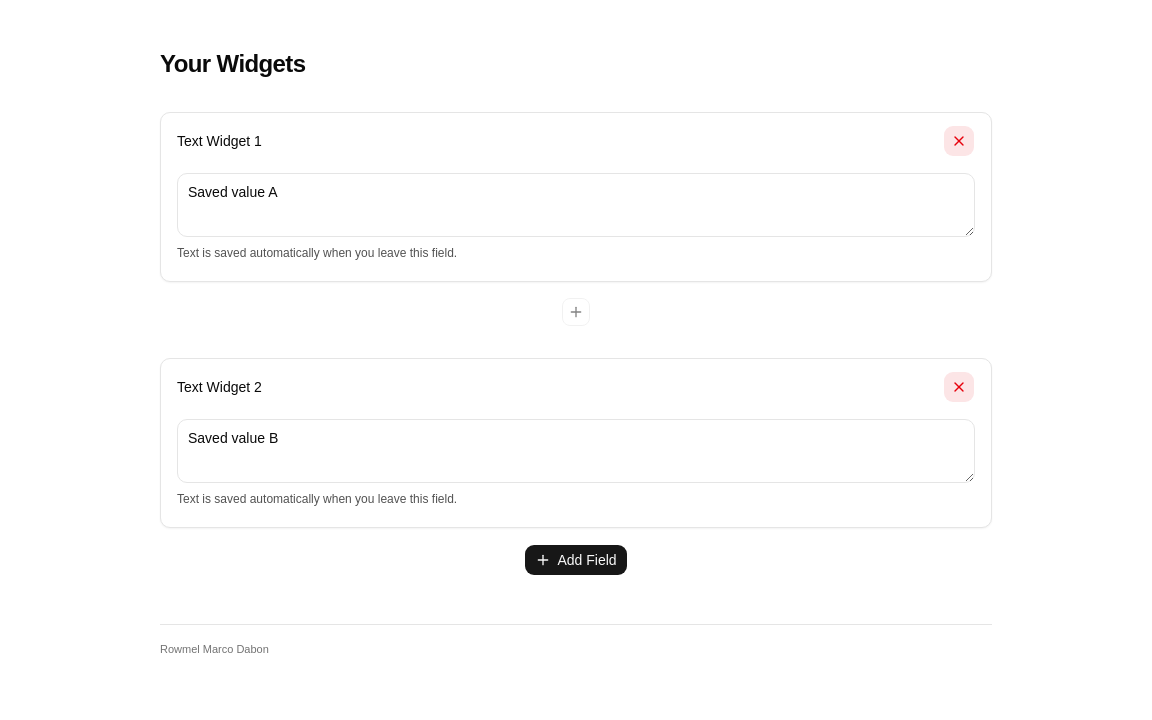
Test: widgets › shows a save error and preserves unsaved input so the user can retry
Clear the text box named "Text Widget 1" at point(576, 205), box [177,173,975,237]
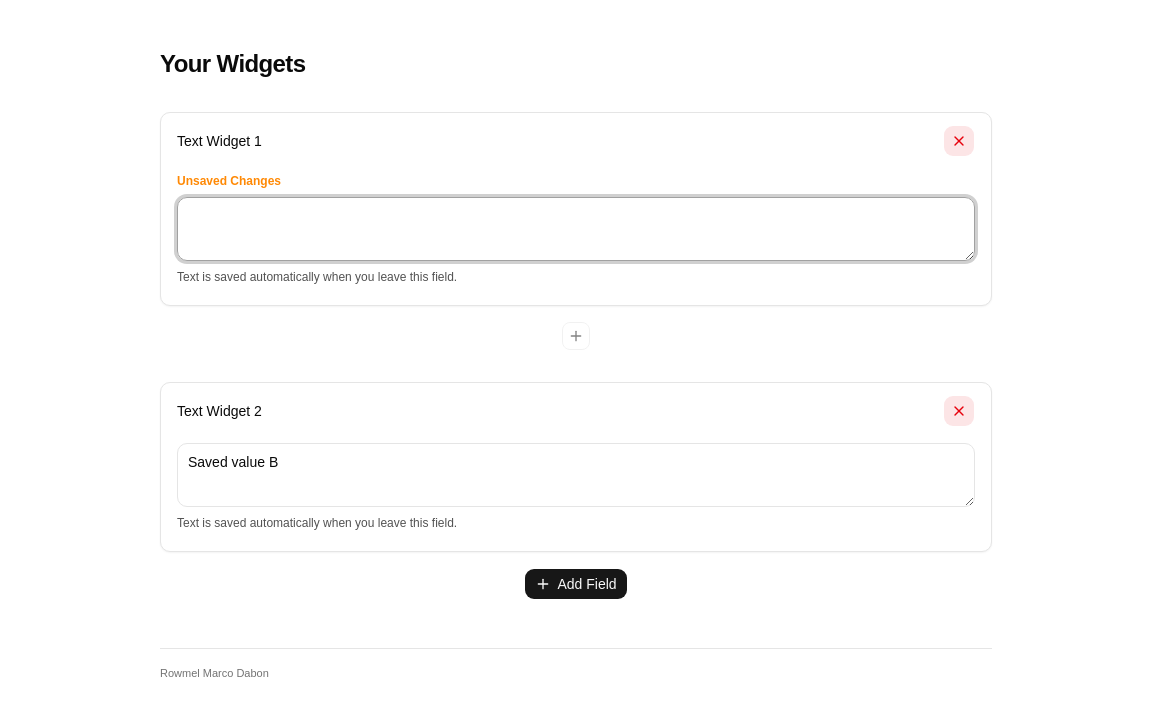
Type "Unsaved draft" into the text box named "Text Widget 1" at point(576, 229), box [177,197,975,261]
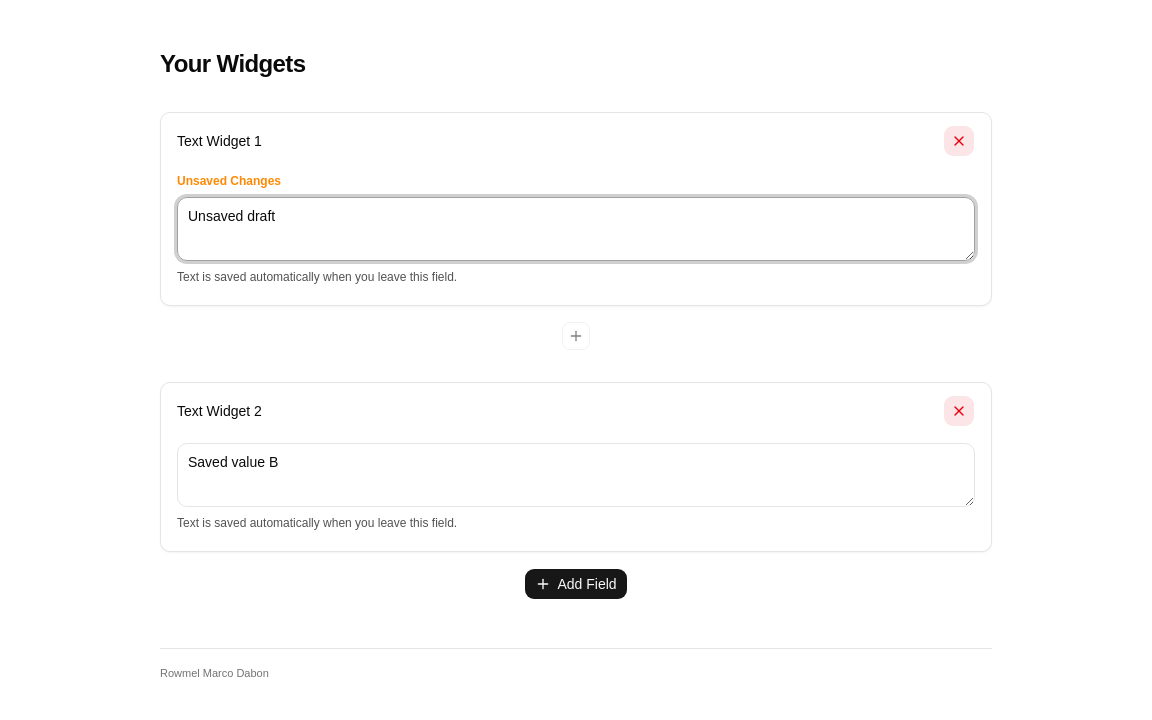
Press Tab
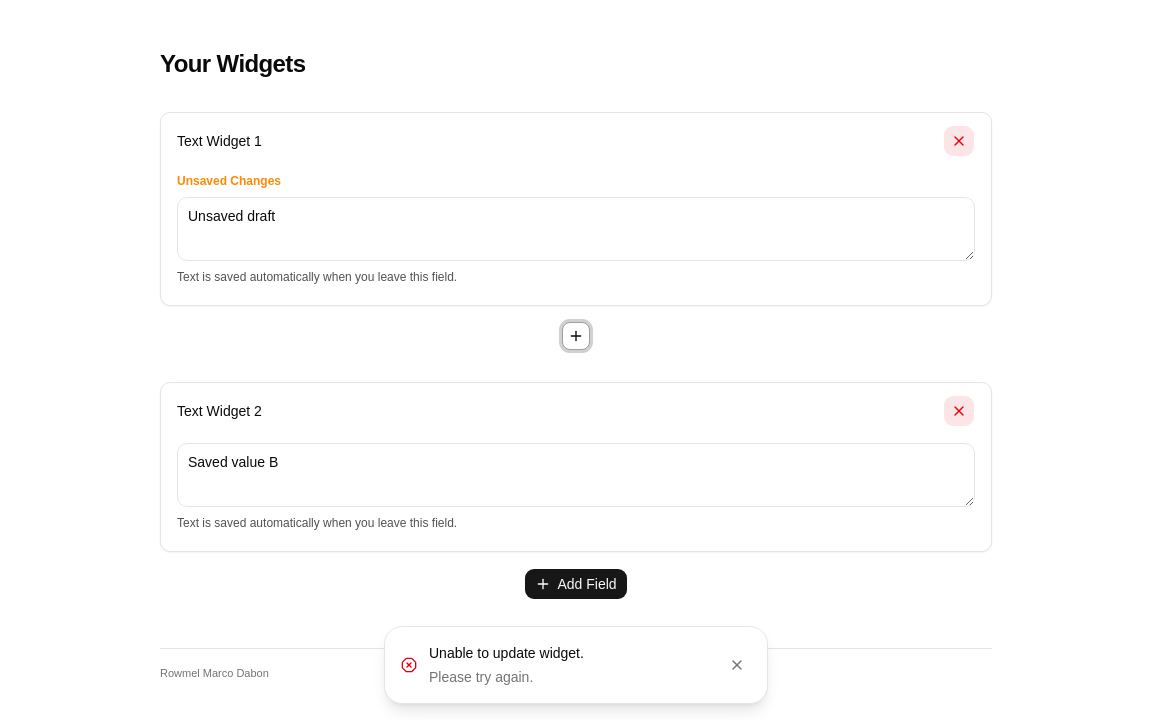
Expected: the text box named "Text Widget 2" holds "Saved value B", [177,443,975,507]
Expected: the heading "Unable to update widget." is shown, [429,645,584,661]
Expected: the text "Please try again." is shown, [429,669,533,685]
Click the text box named "Text Widget 1" at point(576, 229), box [177,197,975,261]
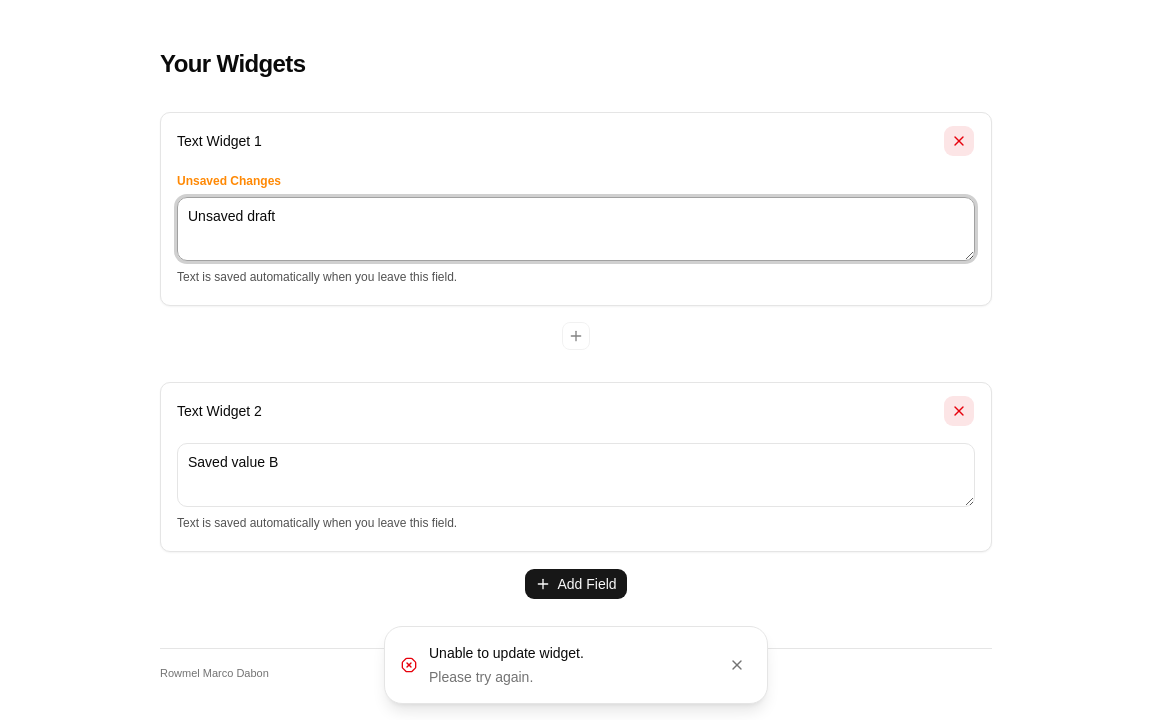
Press Tab
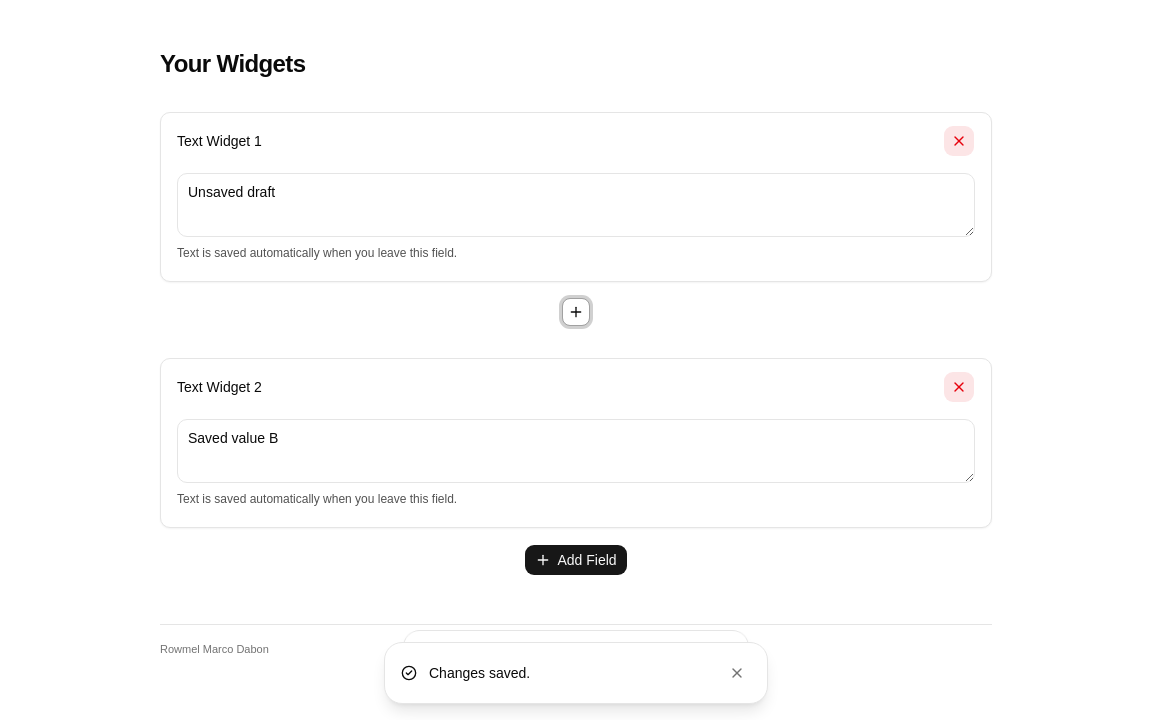
Expected: the heading "Changes saved." is shown, [429,665,530,681]
